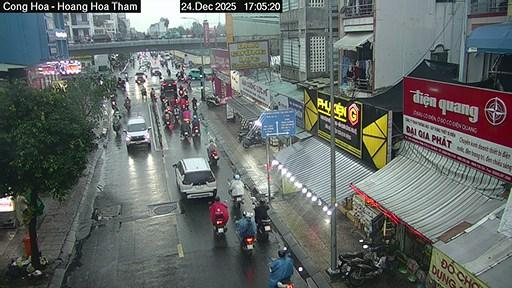motorbike: (336, 239, 394, 275), (336, 239, 374, 274), (348, 256, 386, 286), (242, 133, 265, 147), (256, 217, 271, 238), (230, 190, 243, 208), (240, 237, 253, 253), (231, 194, 243, 208), (205, 95, 220, 106), (236, 130, 249, 142), (208, 148, 217, 165), (275, 279, 294, 287), (214, 219, 224, 234), (112, 117, 121, 131), (179, 99, 188, 109), (181, 130, 191, 139), (192, 125, 199, 136), (165, 120, 172, 131), (124, 100, 130, 112), (150, 90, 156, 100), (192, 100, 197, 112), (111, 99, 117, 109), (227, 180, 230, 184)
